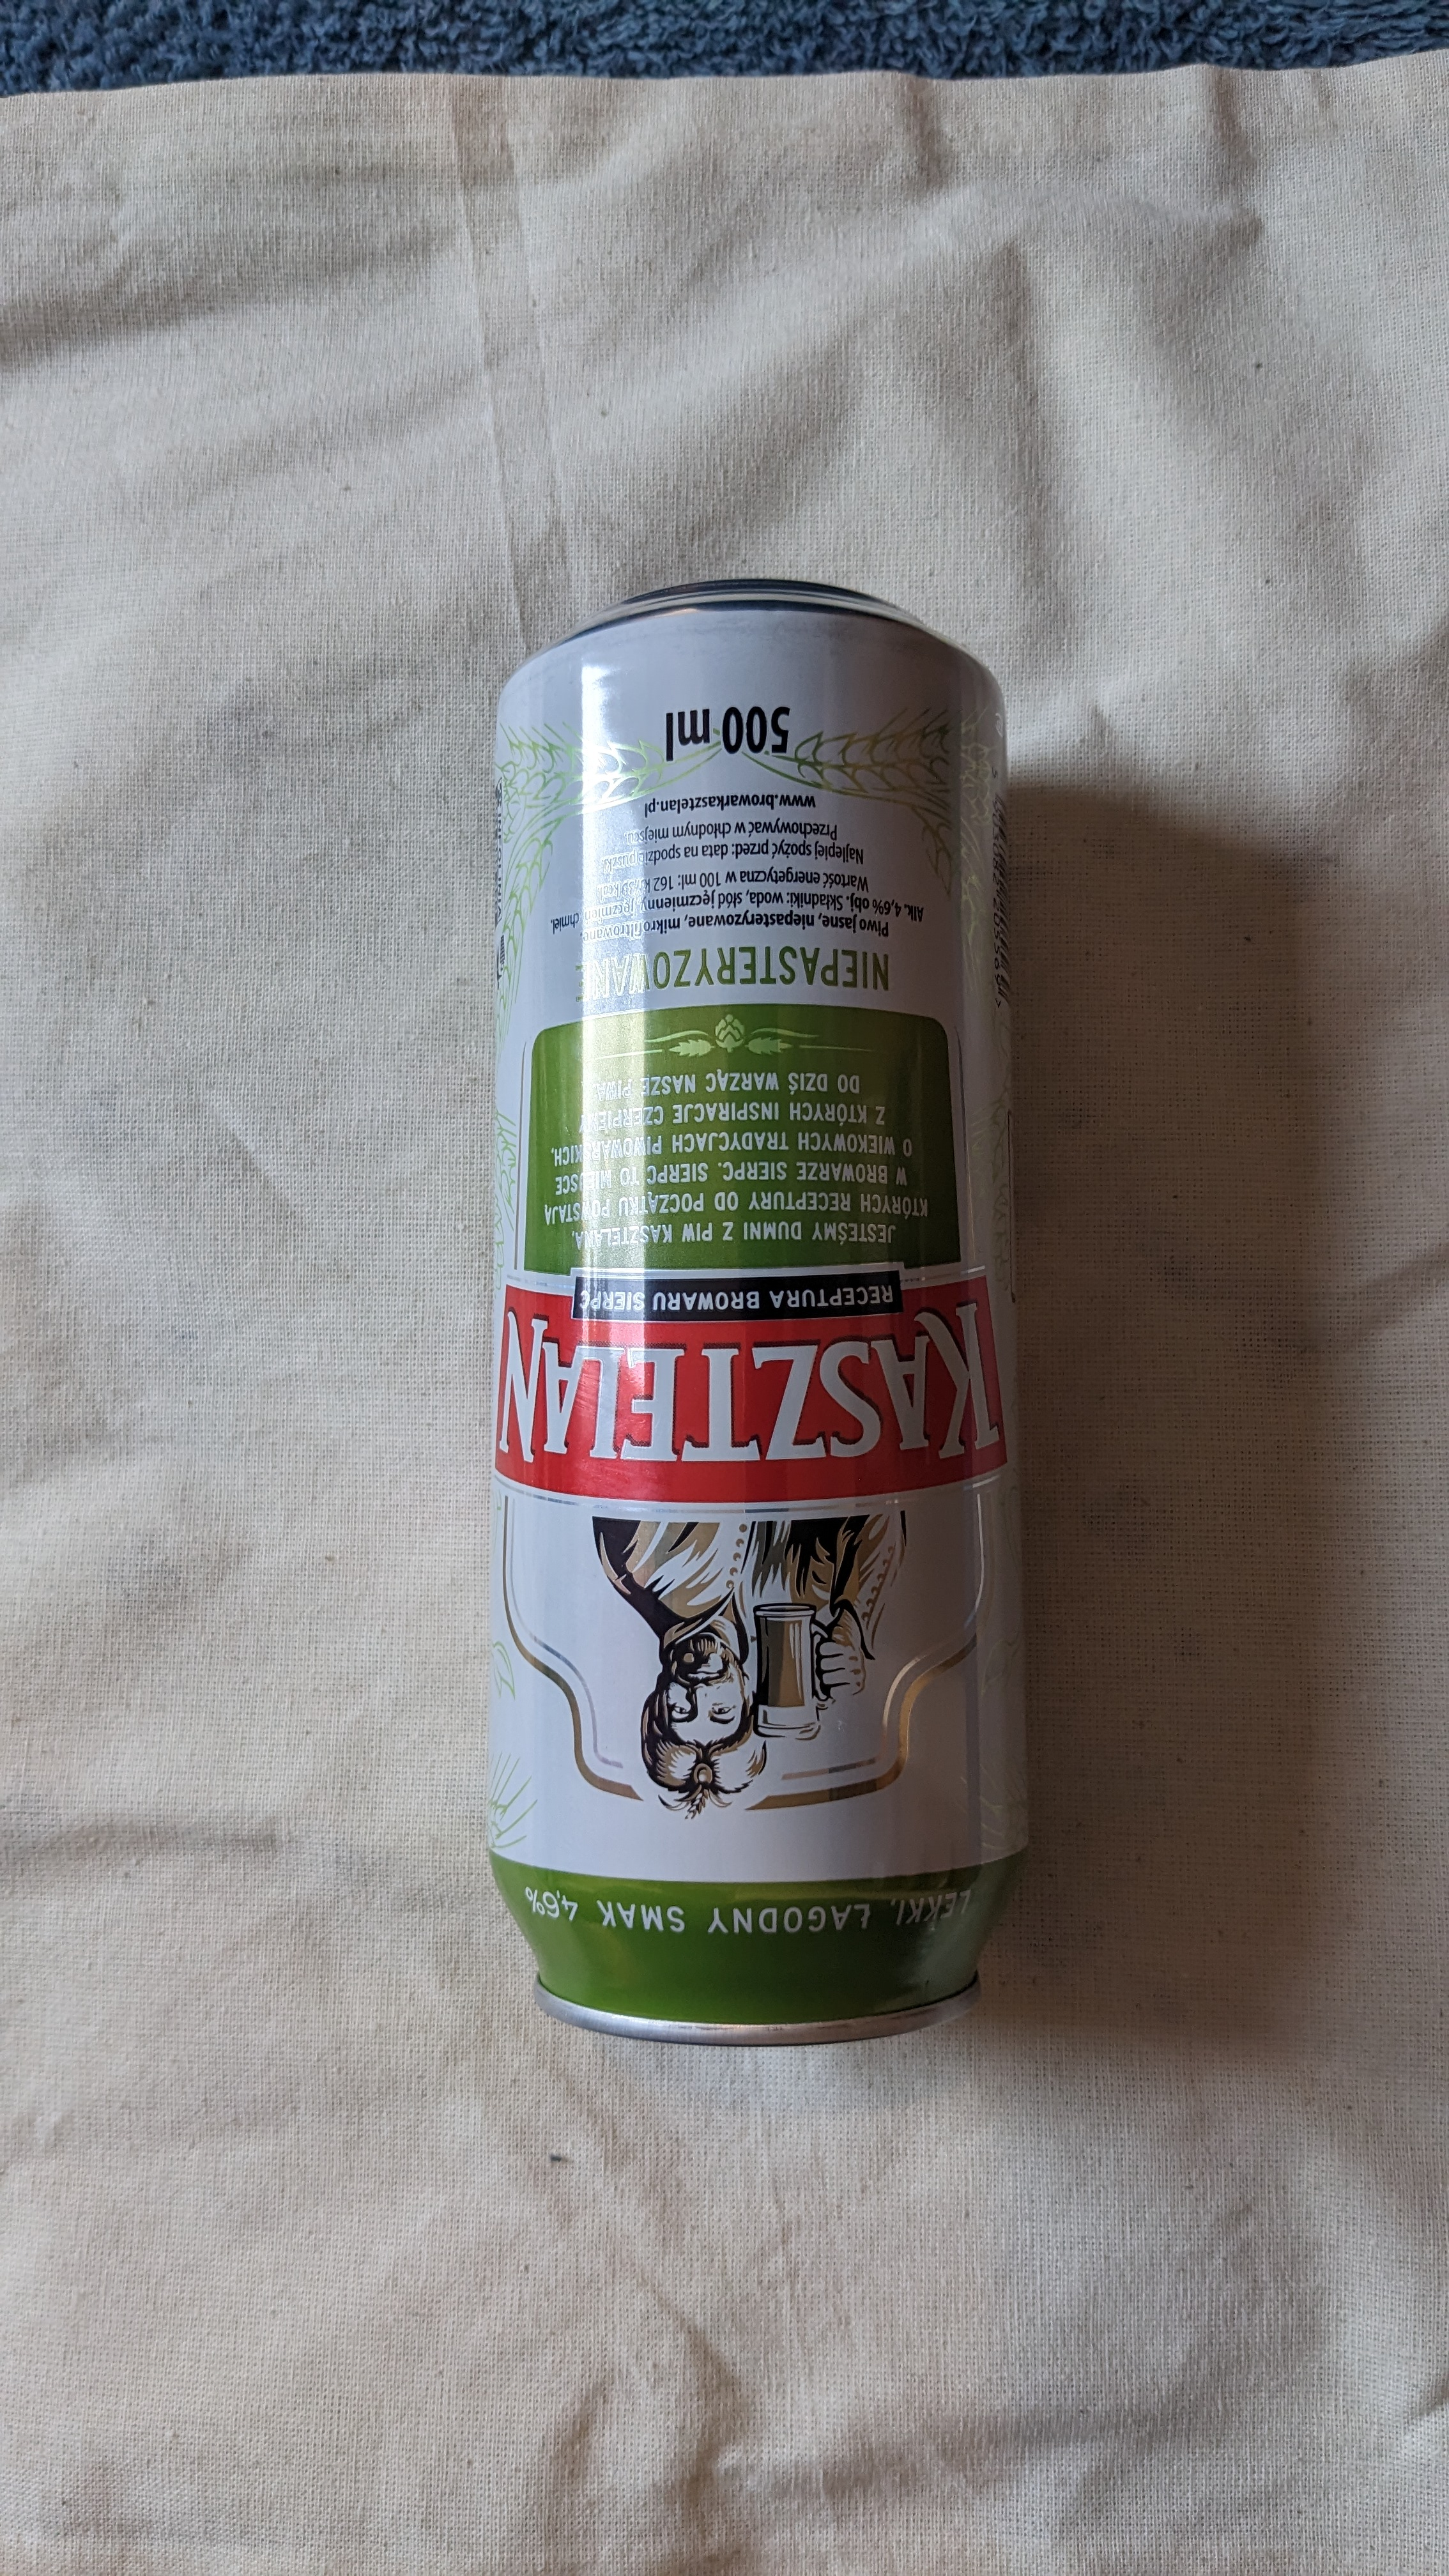kasztelan: (435, 591, 1065, 2059)
